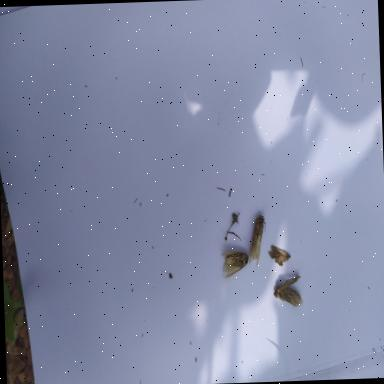pbw: (272, 274, 304, 308), (246, 214, 266, 266), (220, 250, 249, 278)
